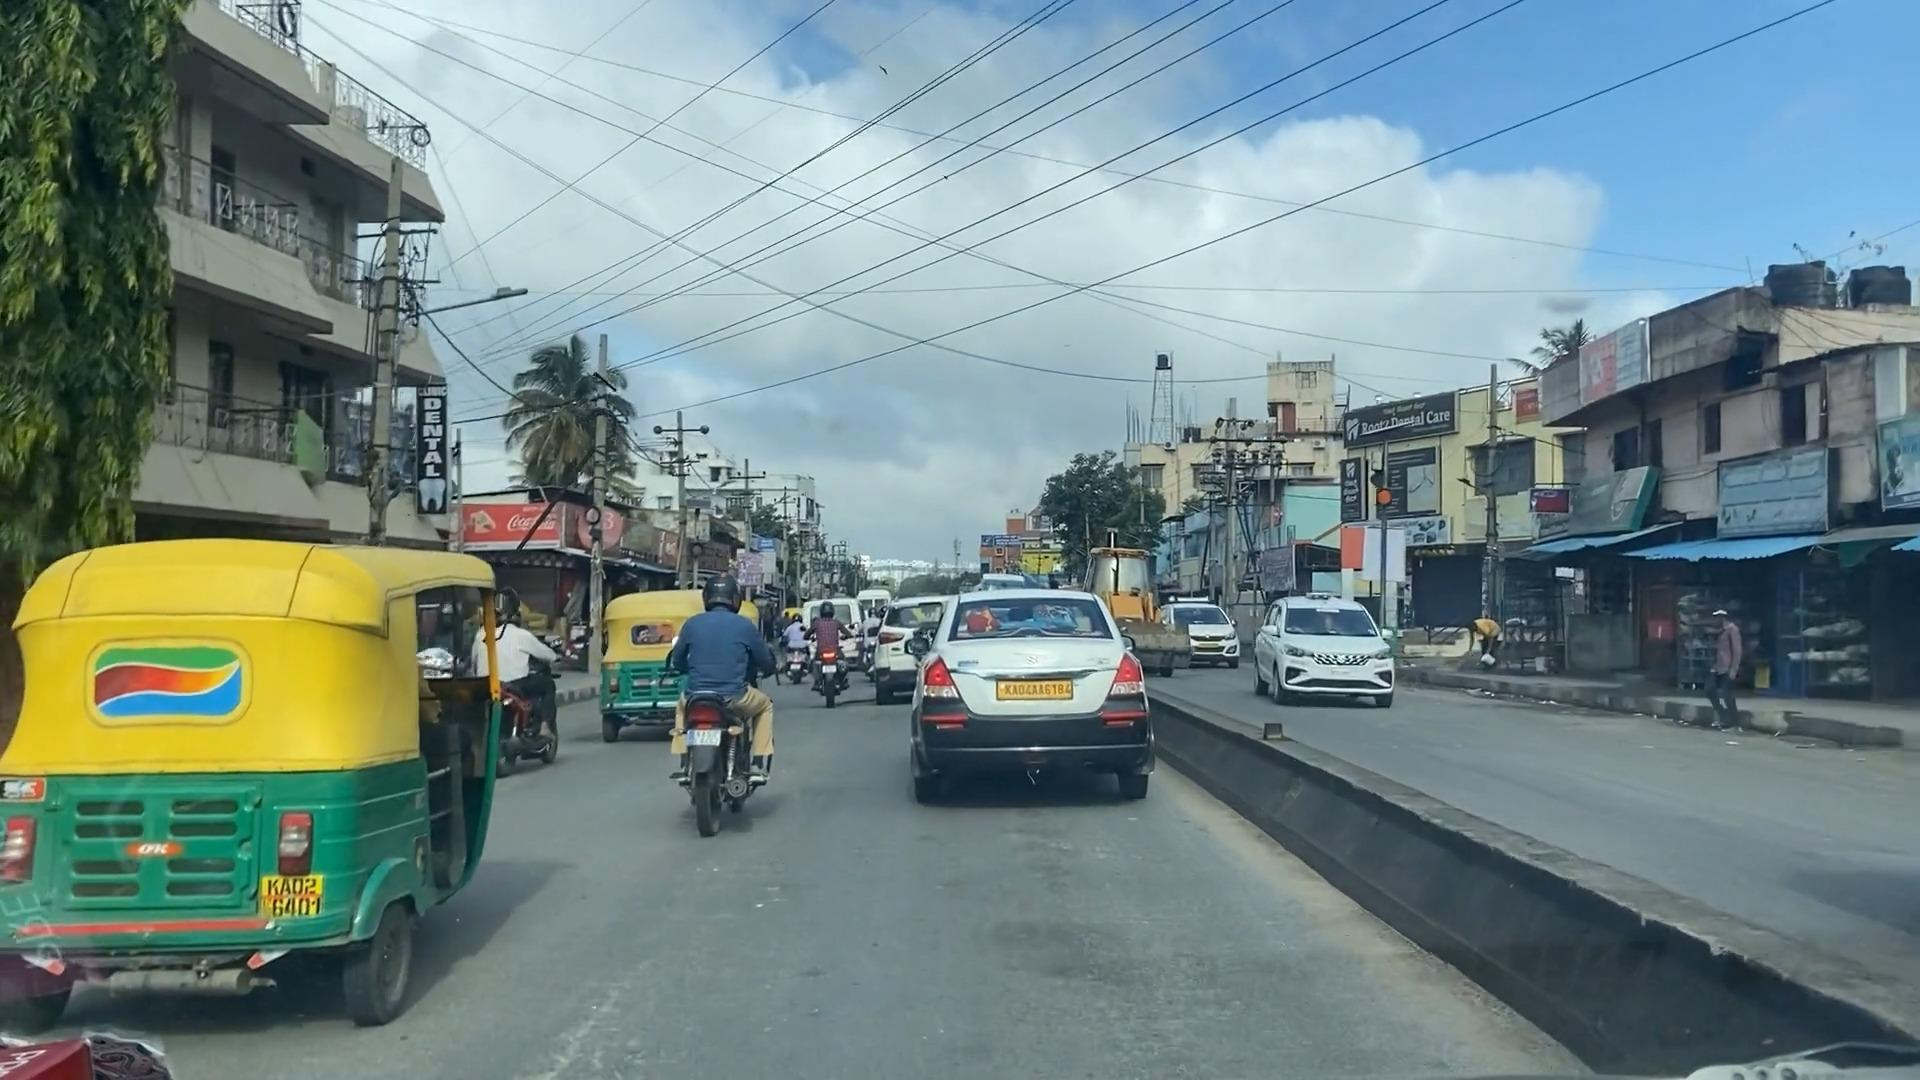LMV: (11, 527, 496, 992), (674, 580, 765, 848)
RoadDamages: (495, 948, 674, 1080)
